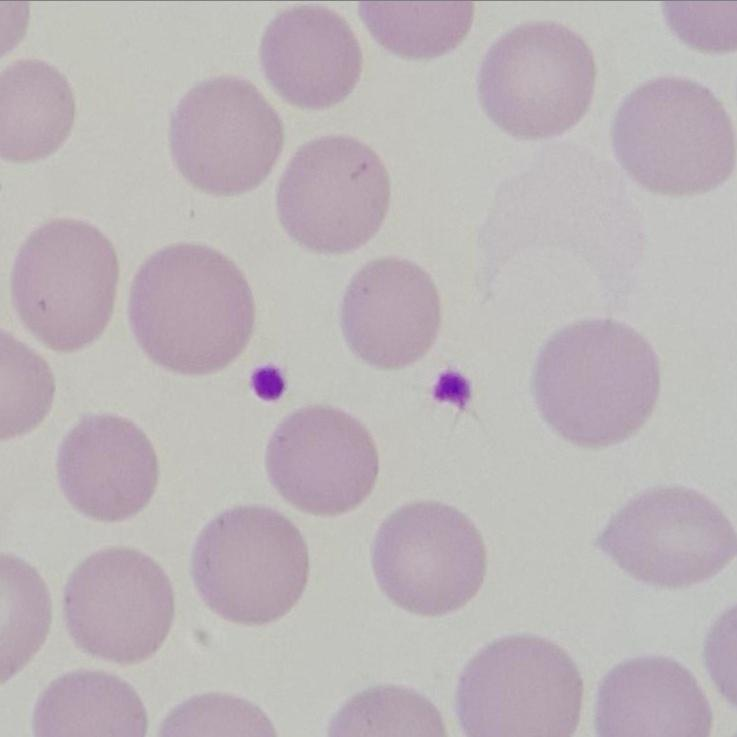Uninfected: (130, 243, 251, 376), (534, 319, 659, 445), (610, 77, 737, 196), (193, 502, 310, 626), (10, 216, 116, 350), (597, 487, 737, 588), (274, 135, 389, 256), (477, 25, 598, 140), (167, 76, 284, 194), (370, 500, 484, 617), (457, 635, 582, 737), (63, 552, 172, 668), (267, 409, 378, 514), (340, 256, 442, 369), (256, 5, 359, 112), (56, 417, 158, 523), (597, 656, 714, 737), (0, 63, 82, 168)
